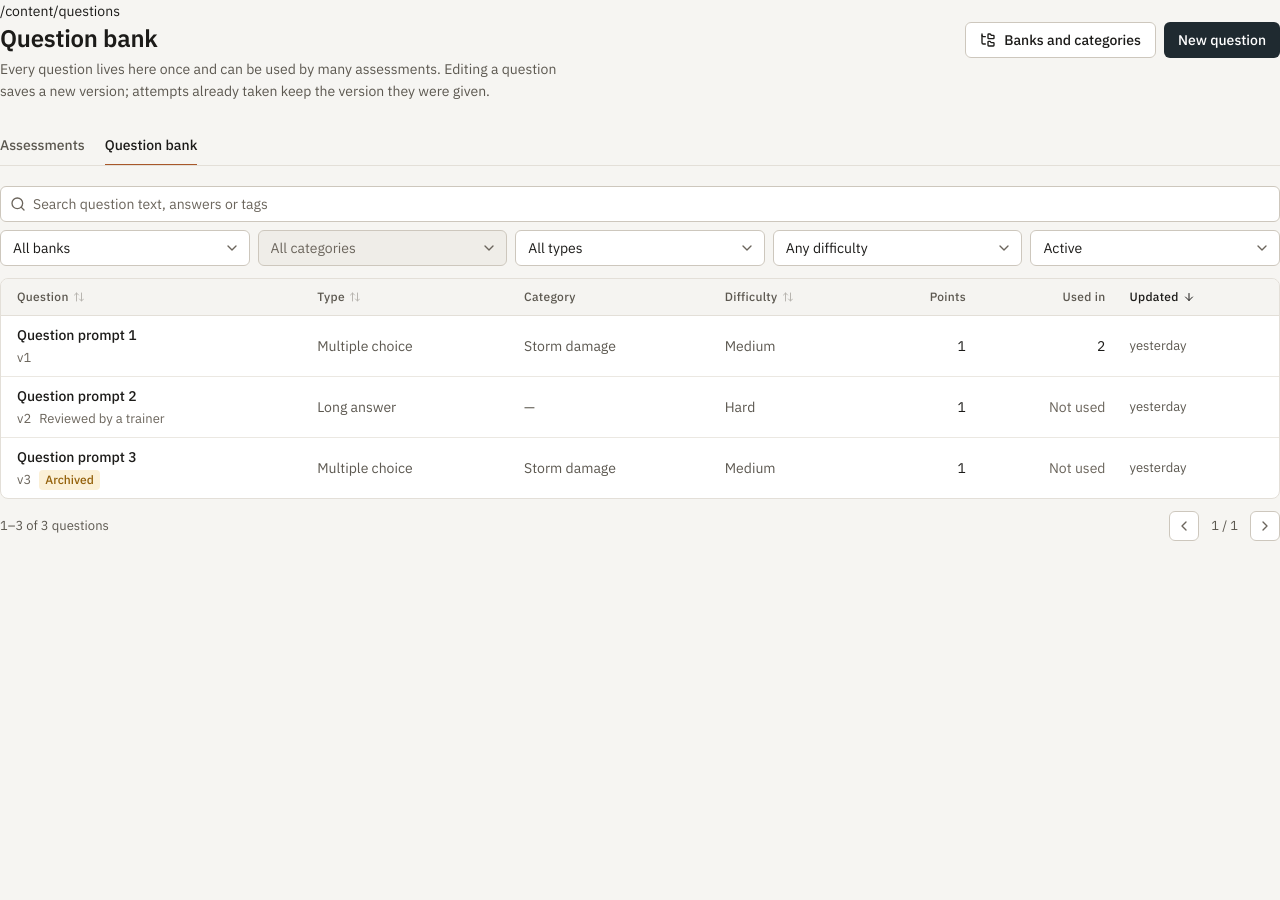
Test: QuestionBankPage › opens bank and category management
Expected: the table is shown, left=1, top=279, right=1279, bottom=498
Click the button "Banks and categories" at x=1061, y=40, box left=965, top=22, right=1156, bottom=58
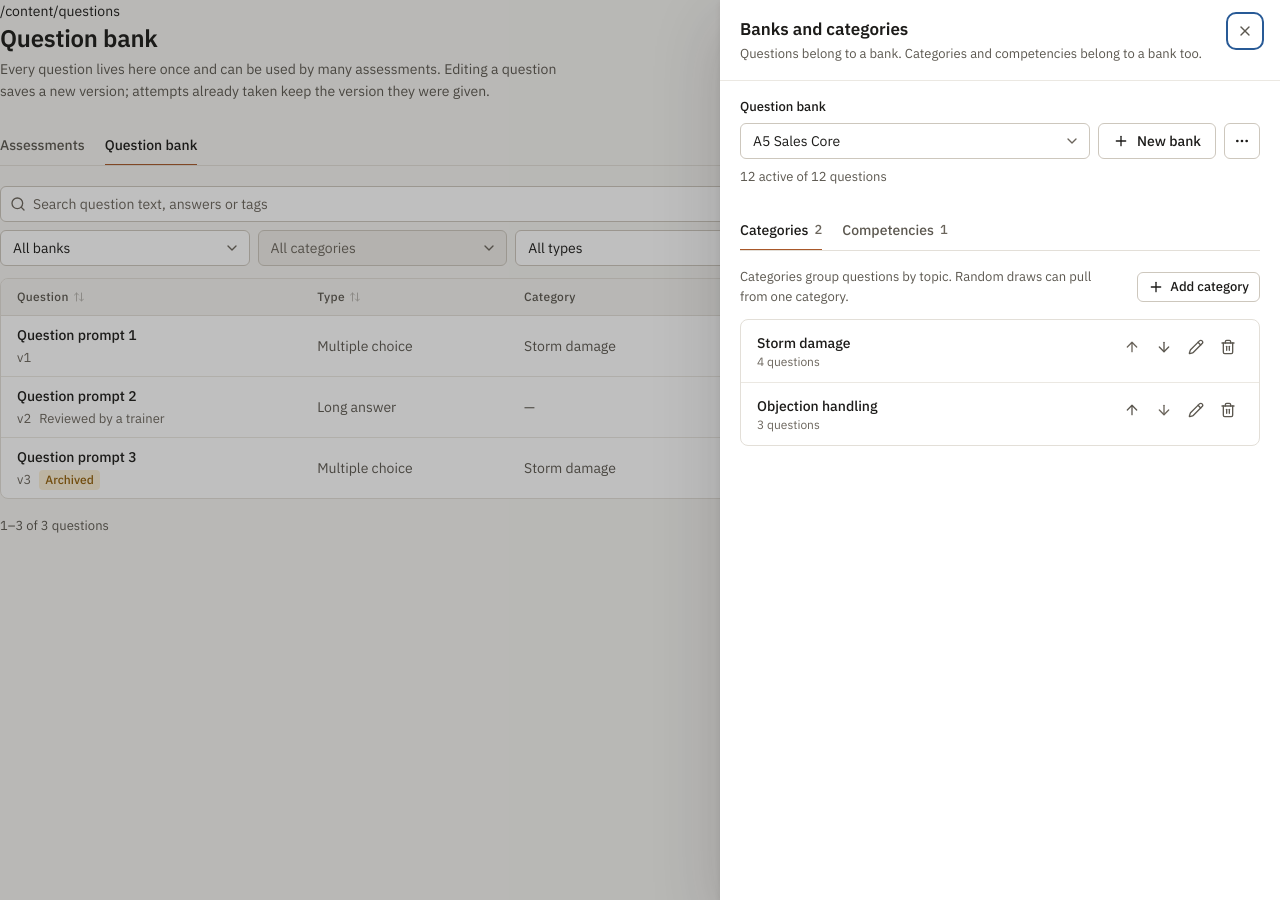
Expected: the text "Storm damage" is shown, left=757, top=334, right=850, bottom=352
Expected: the button "Add category" is shown, left=1137, top=272, right=1260, bottom=302
Expected: the button named "Move Storm damage down" is enabled, left=1149, top=332, right=1179, bottom=362
